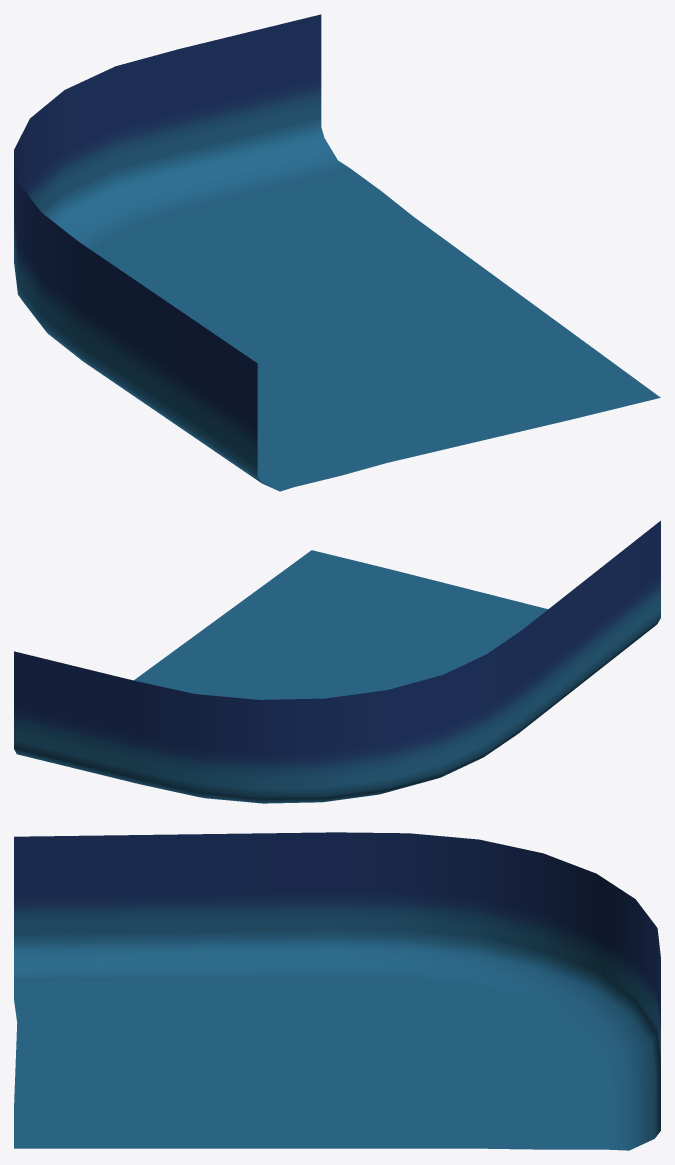
The model's file is MSH_ENV_SnowArena_Sky.FBX.
3 renders of one model, top to bottom at view 1: azimuth 30°, elevation 25°; view 2: azimuth 150°, elevation 25°; view 3: azimuth 270°, elevation 25°, orthographic. The views are drawn at different scales.
Parts seen in each view (by area): view 1: plane_sky_2; view 2: plane_sky_2; view 3: plane_sky_2.
Part boxes in pixels (x1,y1,x2,y2): plane_sky_2: (14,14,660,491); plane_sky_2: (14,520,660,803); plane_sky_2: (14,832,660,1150).
Bounding box in the file's own units: 78.08 × 24.06 × 111.
